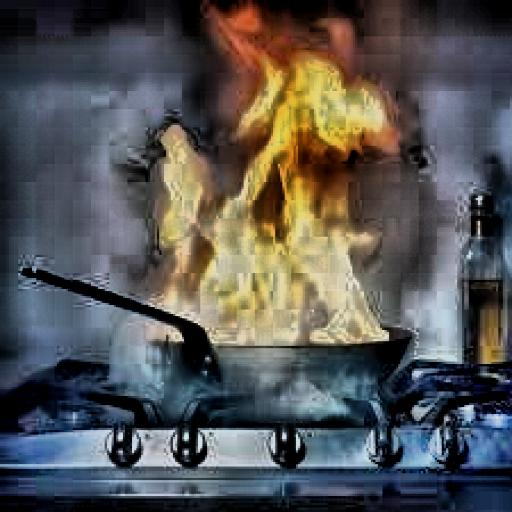fire: (150, 50, 421, 353)
